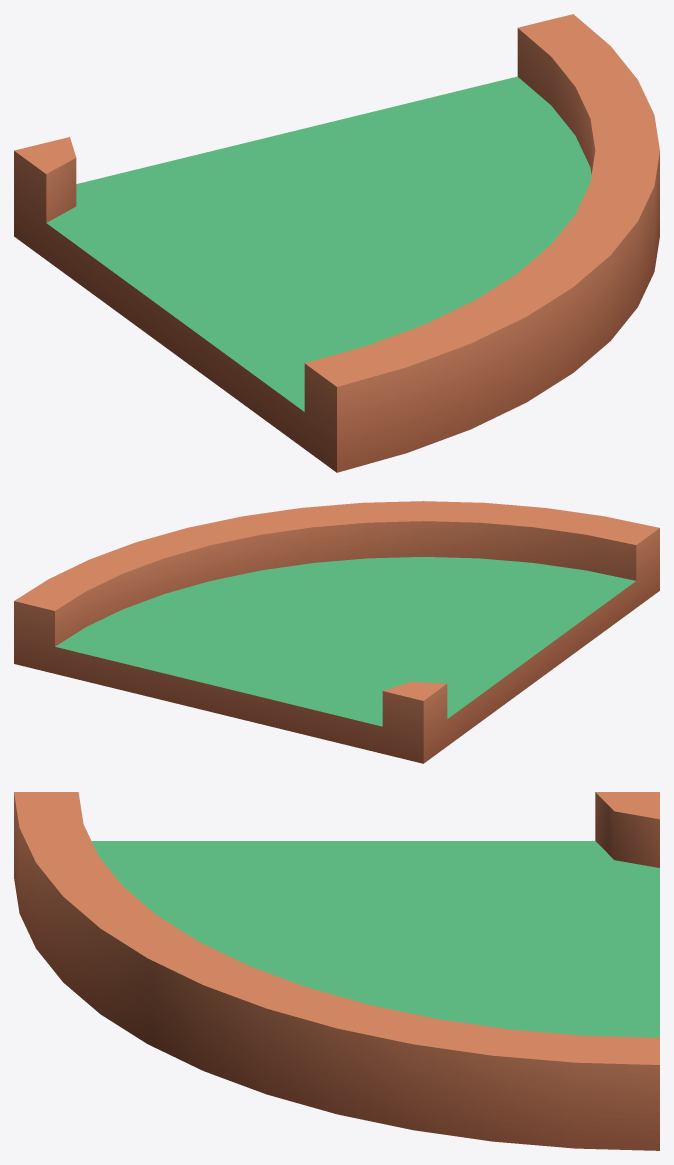
File: round-corner-a.glb
3 views of the same model, one above another, from view 1: azimuth 30°, elevation 25°; view 2: azimuth 150°, elevation 25°; view 3: azimuth 270°, elevation 25° (orthographic). The views are drawn at different scales.
Visible parts, largest first — view 1: round-corner-a; view 2: round-corner-a; view 3: round-corner-a.
Boxes of the visible parts, bbox=[...] form: round-corner-a: bbox=[14, 14, 659, 472]; round-corner-a: bbox=[14, 501, 659, 763]; round-corner-a: bbox=[14, 792, 659, 1150].
Bounding box in the file's own units: 0.9999 × 0.1467 × 0.9999.
1 material, 1 textured.
